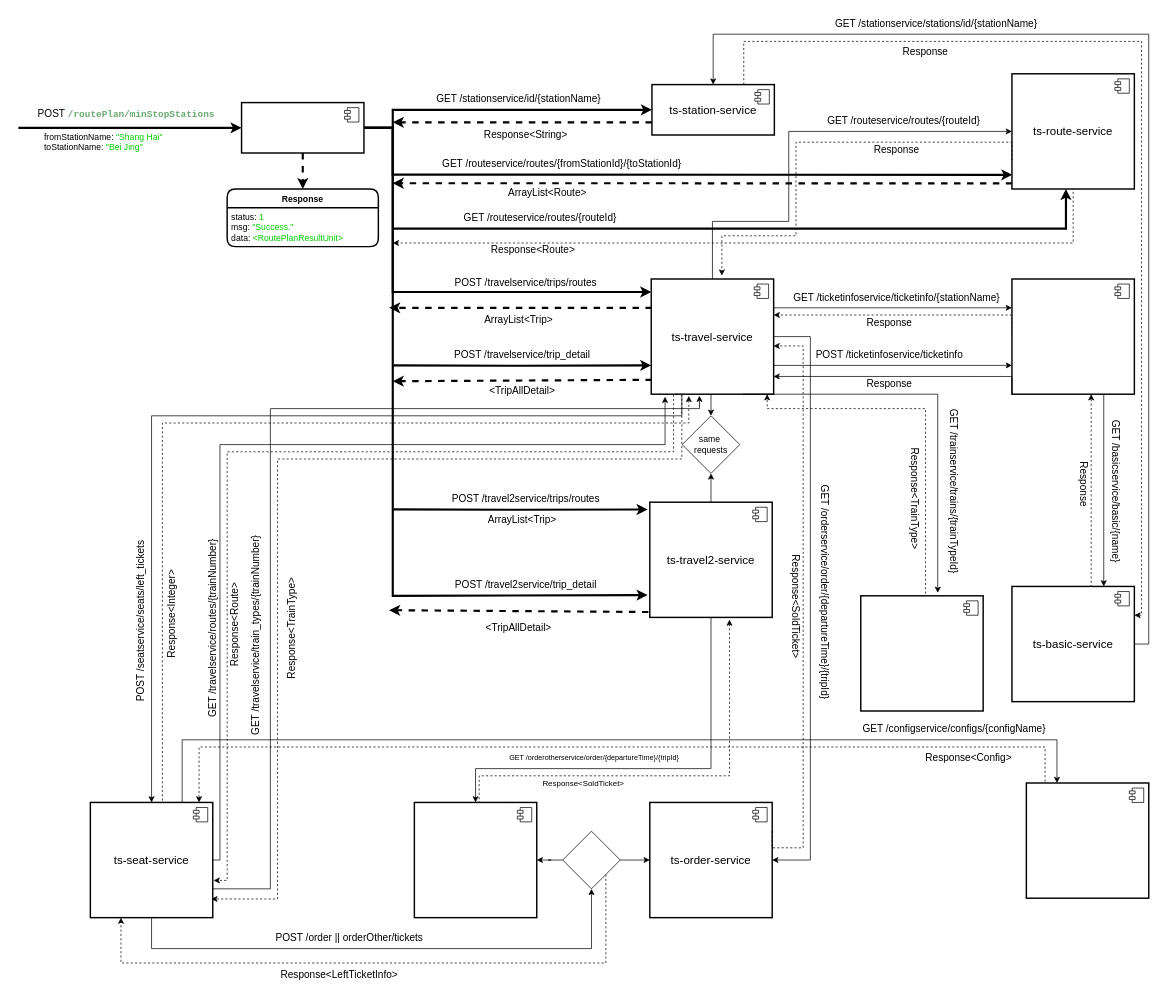
Some shapes in this 1167 by 998 pixel diagram are drawn without their labels. The shapes that lost their labels are listed below. From the top down, each one's centre as x and y in pixels, then its label:
At (x=302, y=127): "ts-route-plan-service".
At (x=1073, y=336): "ts-ticketinfo-service".
At (x=922, y=653): "ts-train -service".
At (x=475, y=859): "ts-orderother-service".
At (x=1087, y=840): "ts-config -service".
